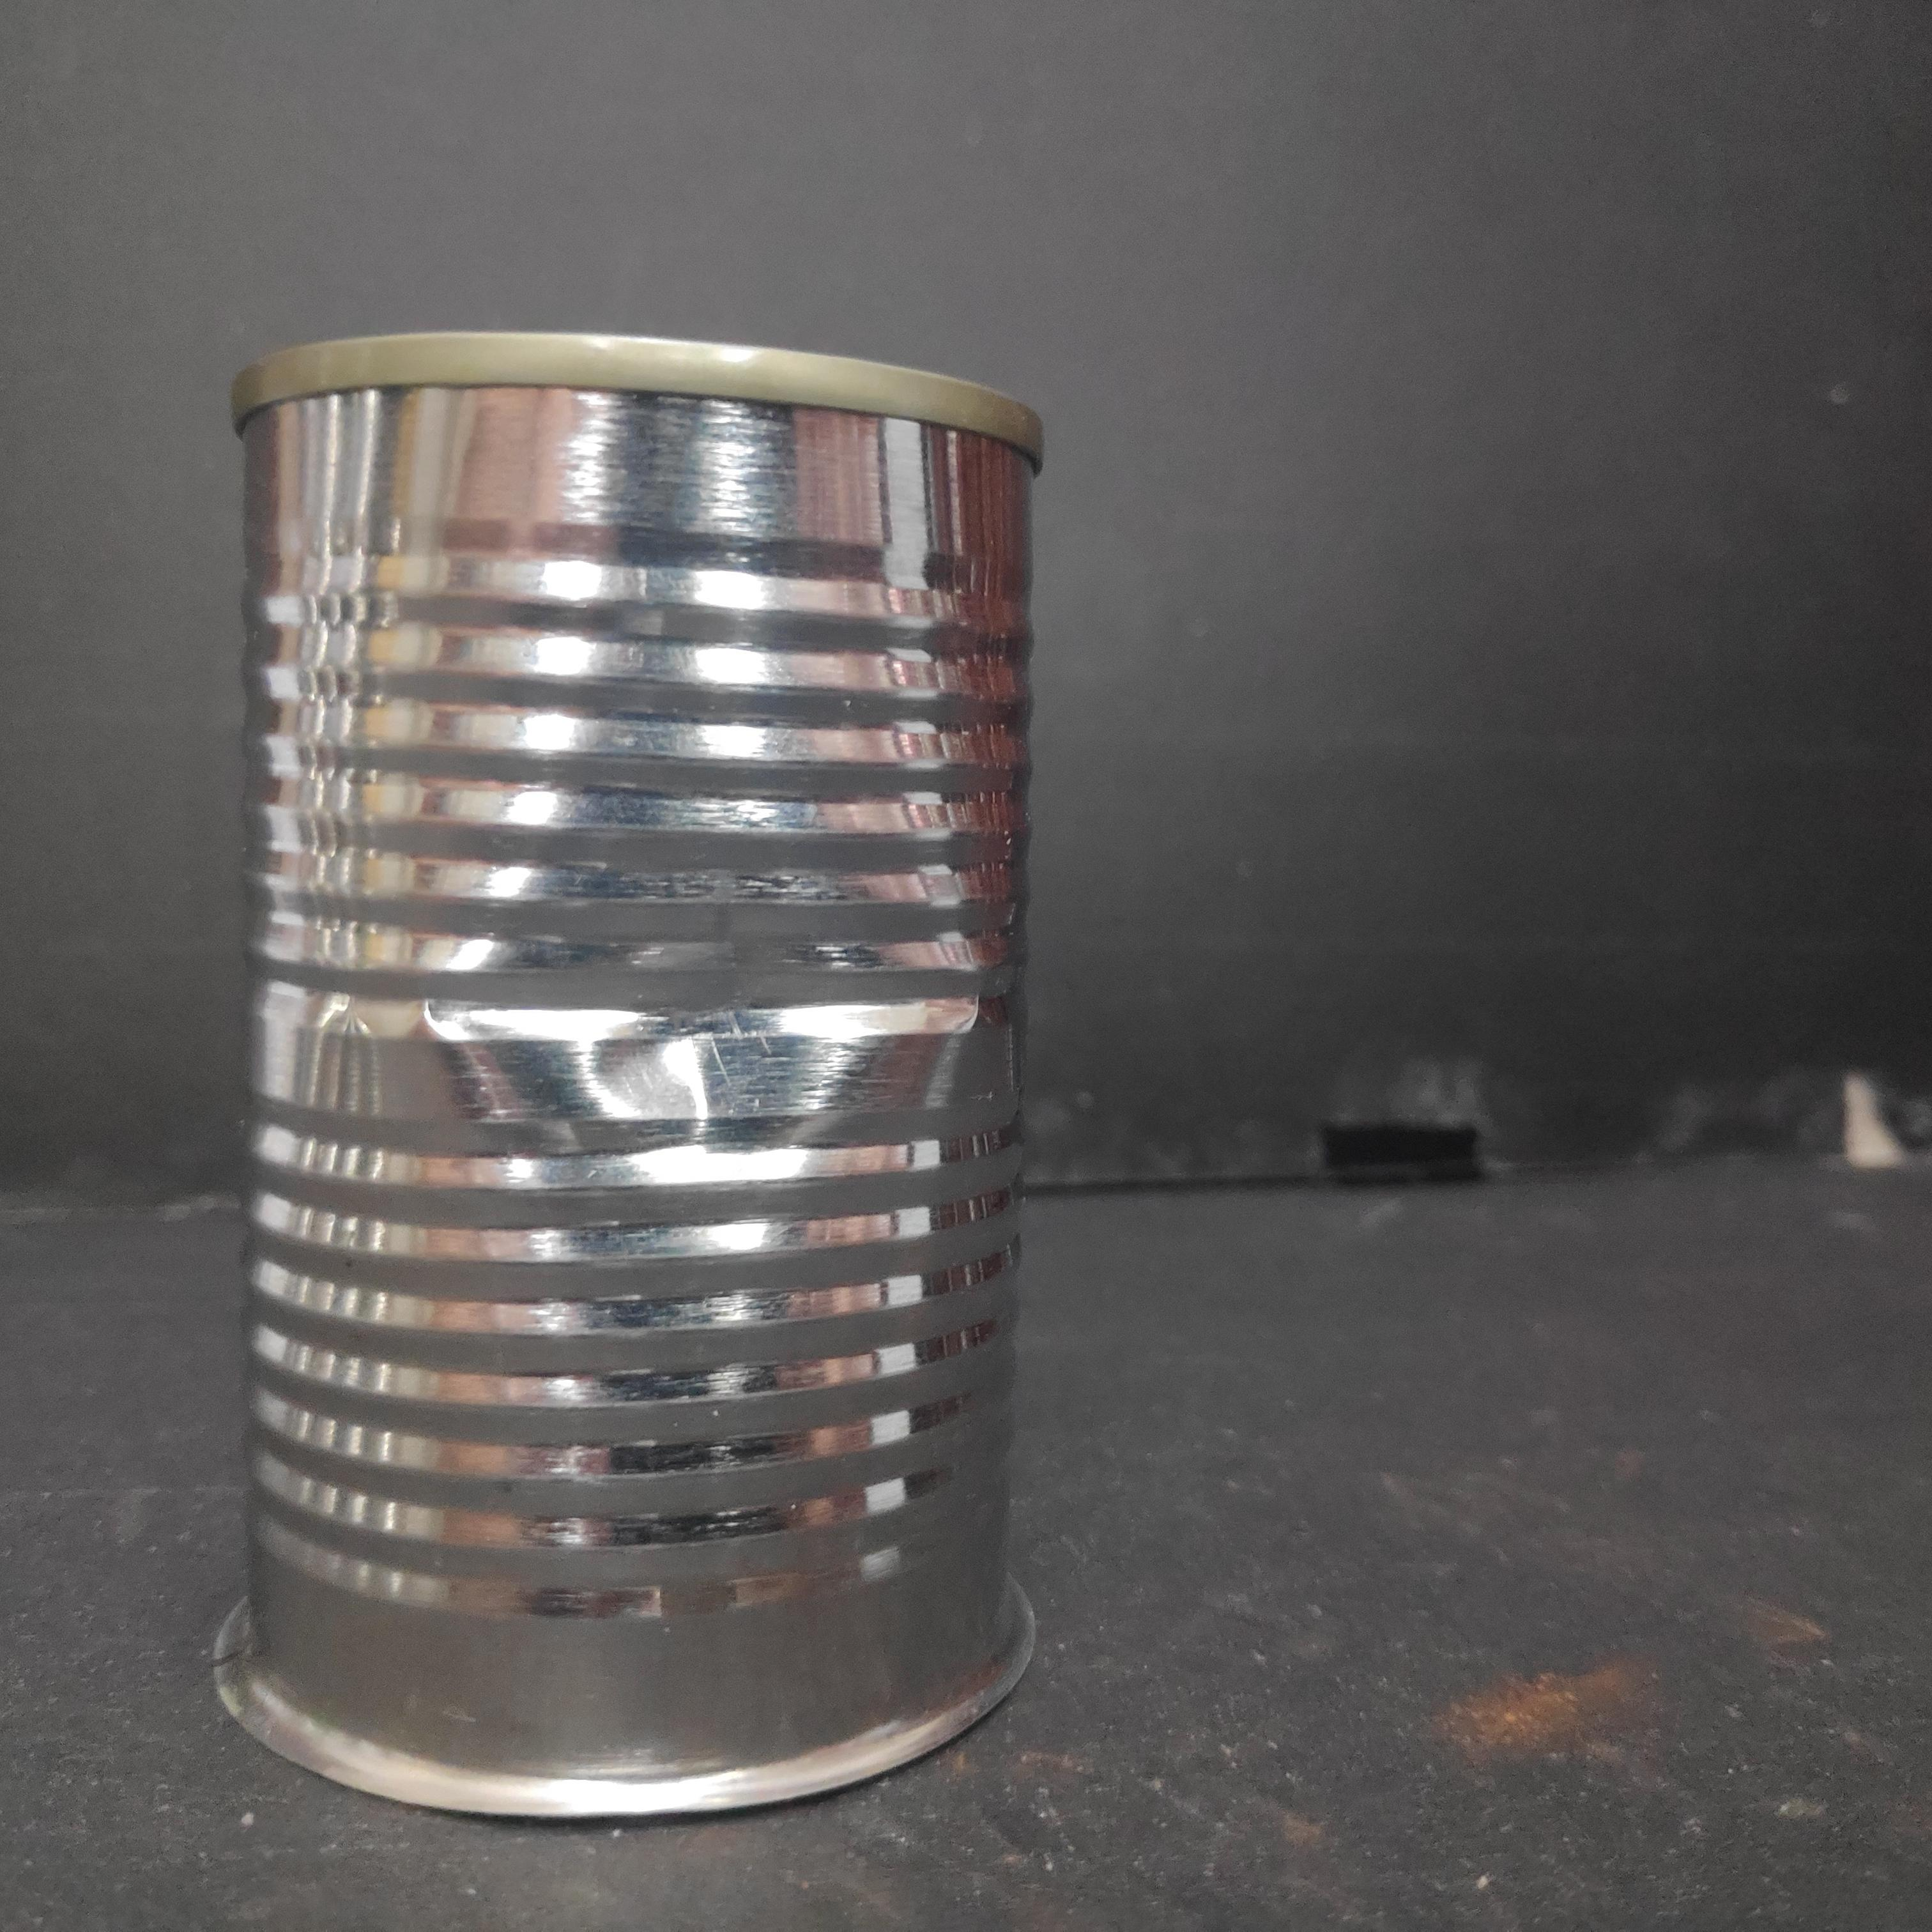Minor Defect: (212, 317, 1060, 1826)
